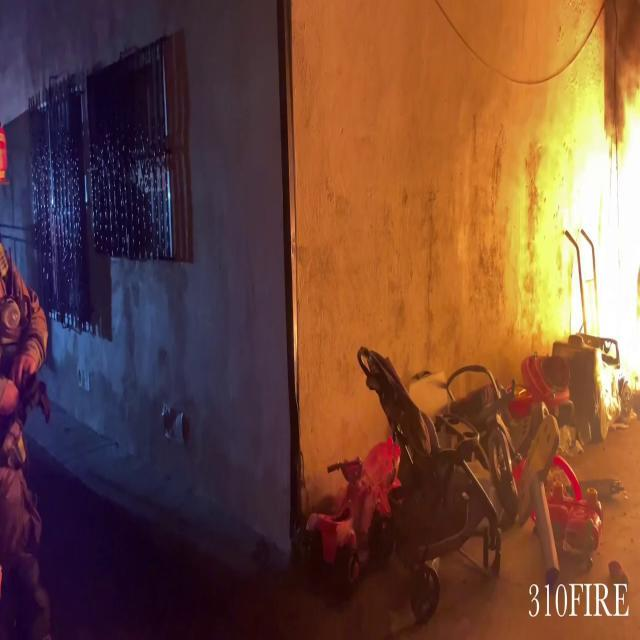Fire: (543, 88, 640, 396)
